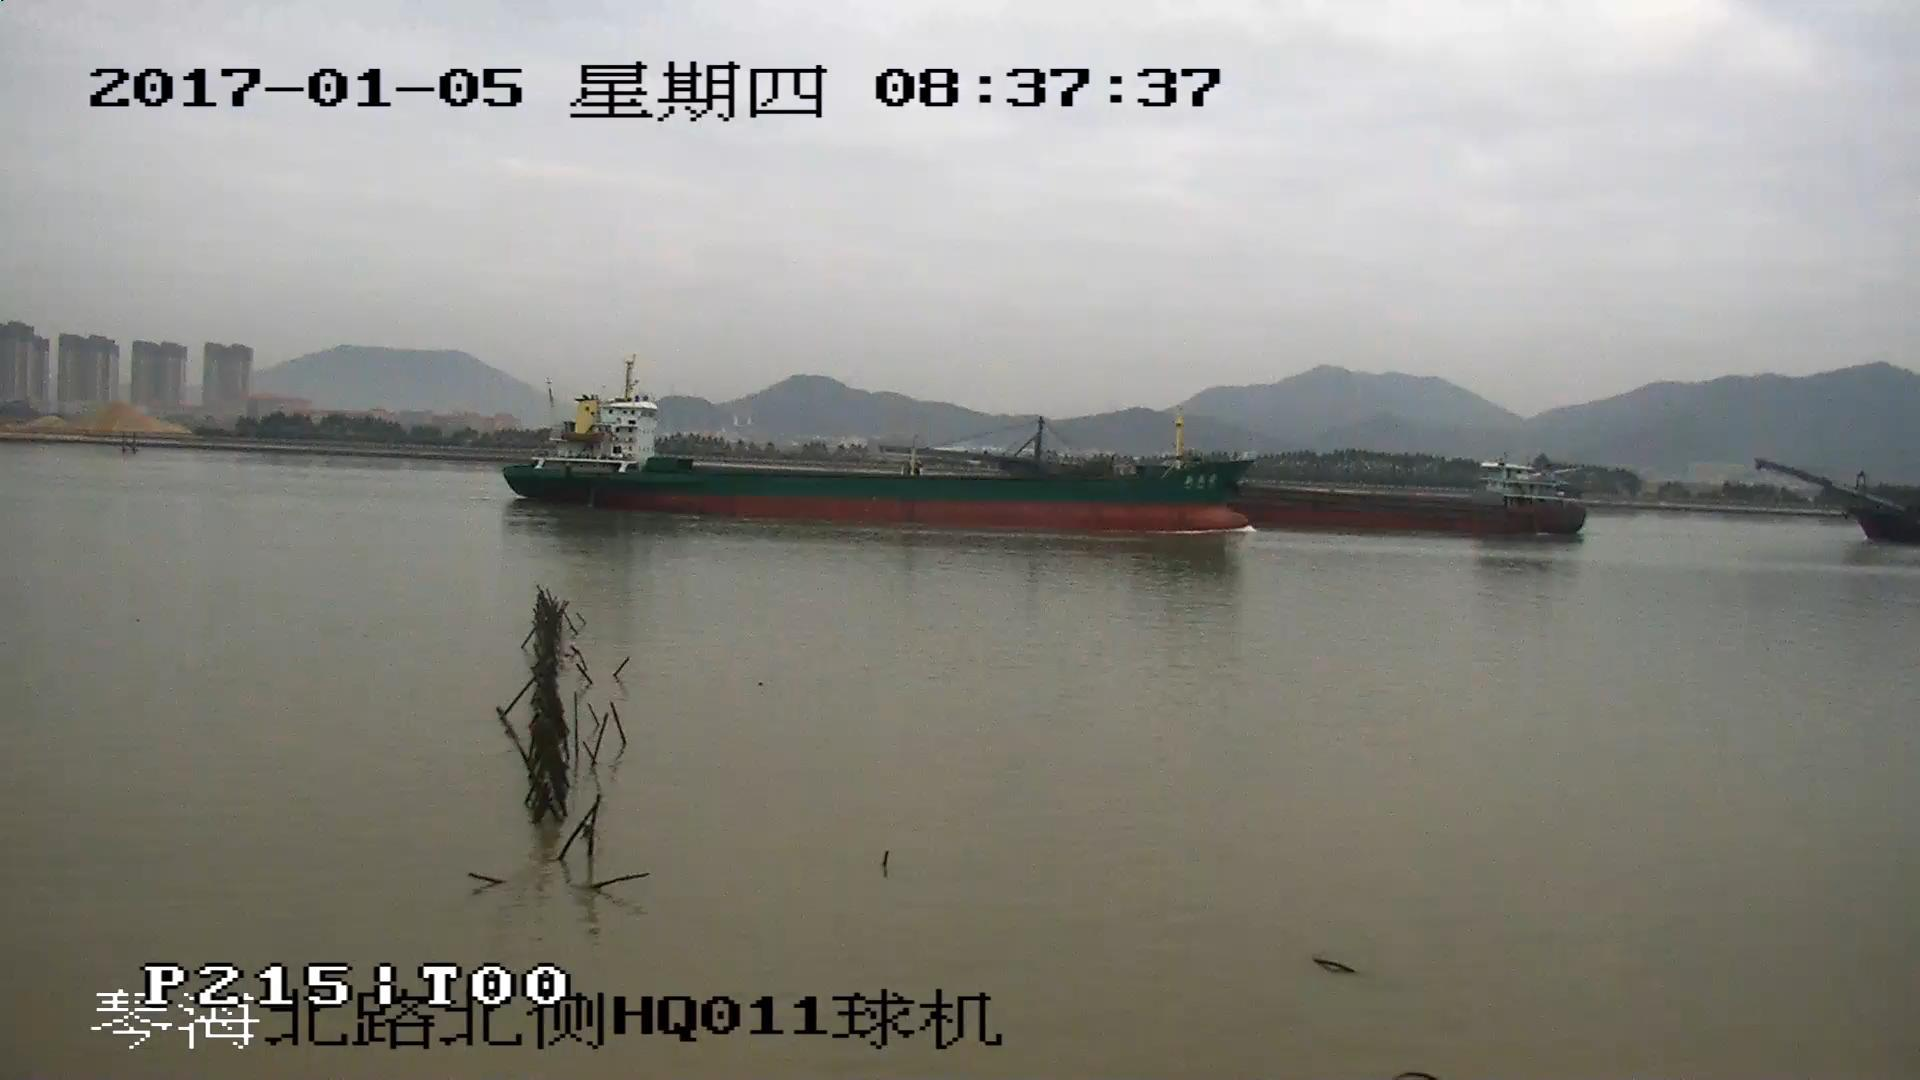Ship: (506, 364, 1250, 531), (1251, 465, 1581, 538), (1756, 460, 1920, 545)
